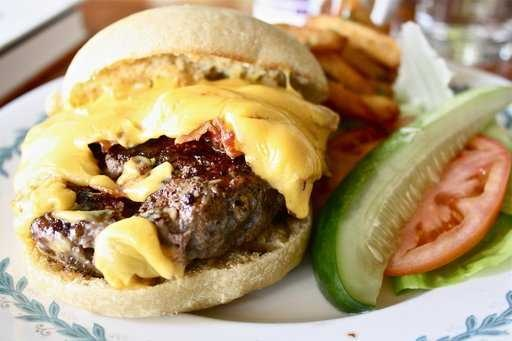hamburger: (26, 10, 315, 307)
